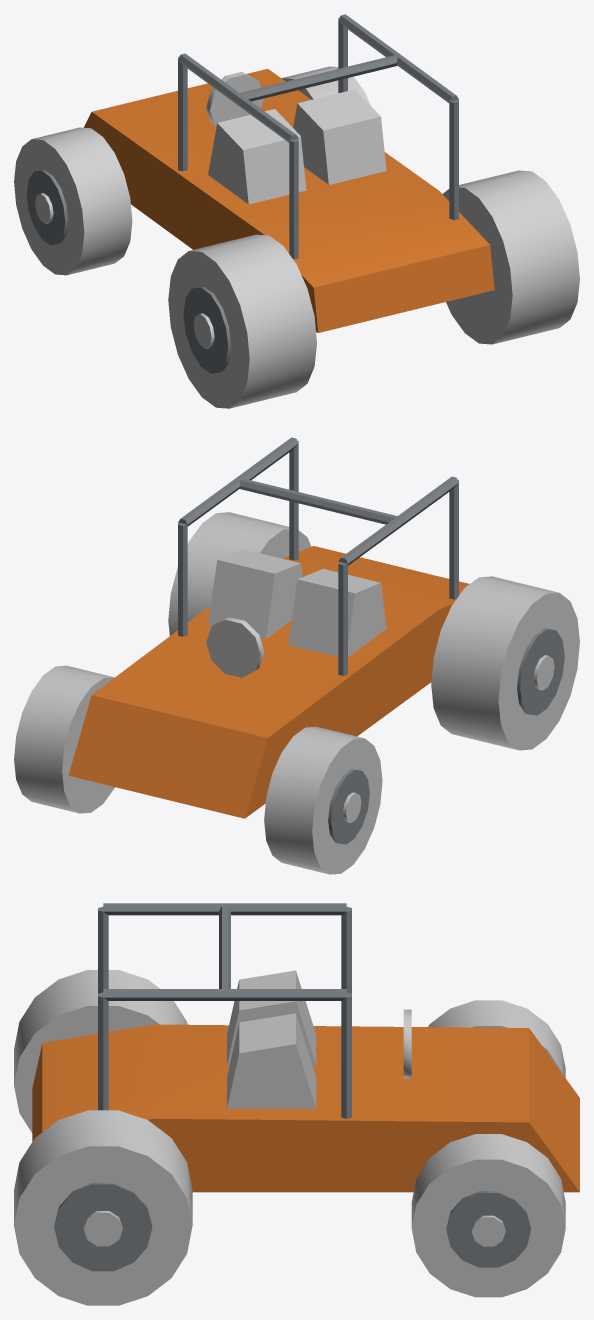
Rendered from dune_buggy.obj.
3 renders of one model, top to bottom at view 1: azimuth 30°, elevation 25°; view 2: azimuth 150°, elevation 25°; view 3: azimuth 270°, elevation 25°, orthographic. The views are drawn at different scales.
Parts seen in each view (by area): view 1: model; view 2: model; view 3: model.
Boxes of the visible parts, x1=… form: model: x1=14, y1=14, x2=579, y2=408; model: x1=14, y1=437, x2=579, y2=874; model: x1=14, y1=903, x2=579, y2=1305.
Size of the model in its own units: 2.14 by 1.47 by 2.79.
